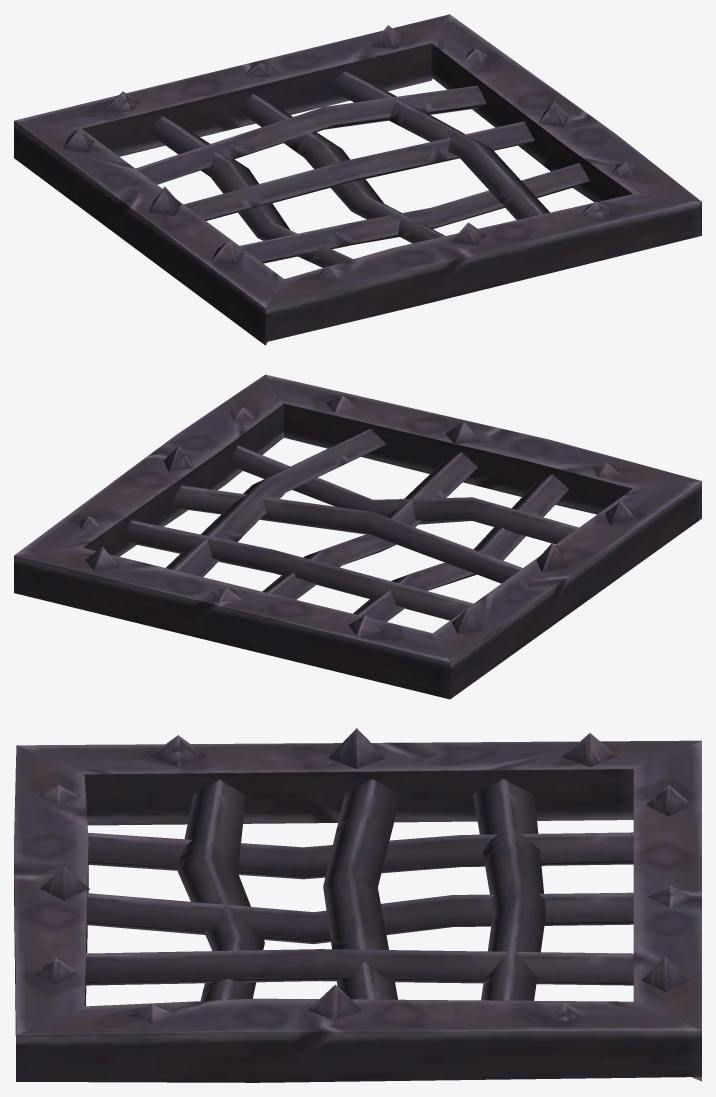
Rendered from lava_floorgrate_02.fbx.
The picture shows the model from 3 angles, top to bottom: view 1: azimuth 30°, elevation 25°; view 2: azimuth 150°, elevation 25°; view 3: azimuth 270°, elevation 25°; orthographic projection. The views are drawn at different scales.
Parts seen in each view (by area): view 1: lava_floorgrate_01_shadows; view 2: lava_floorgrate_01_shadows; view 3: lava_floorgrate_01_shadows.
Part boxes in pixels (left/top/right/bottom): lava_floorgrate_01_shadows: left=14, top=14, right=701, bottom=345; lava_floorgrate_01_shadows: left=14, top=374, right=701, bottom=699; lava_floorgrate_01_shadows: left=14, top=728, right=701, bottom=1082.
Size of the model in its own units: 4.03 by 0.5889 by 4.02.
